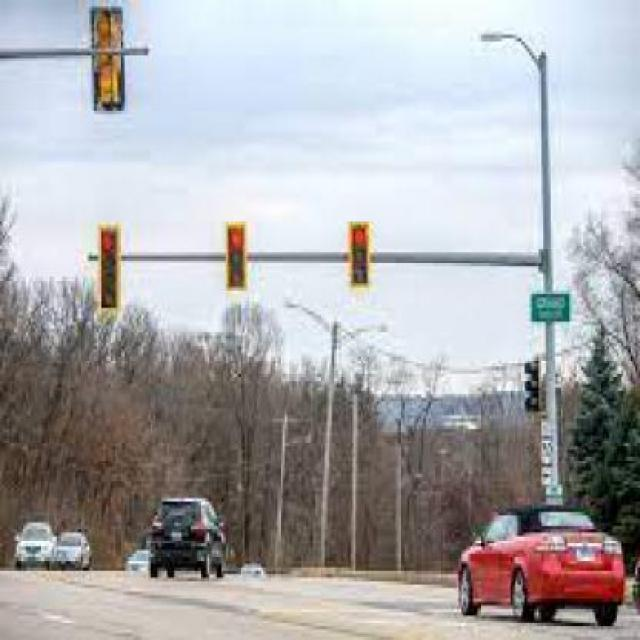red_light: (94, 226, 120, 322), (222, 214, 253, 294), (344, 223, 376, 300)
